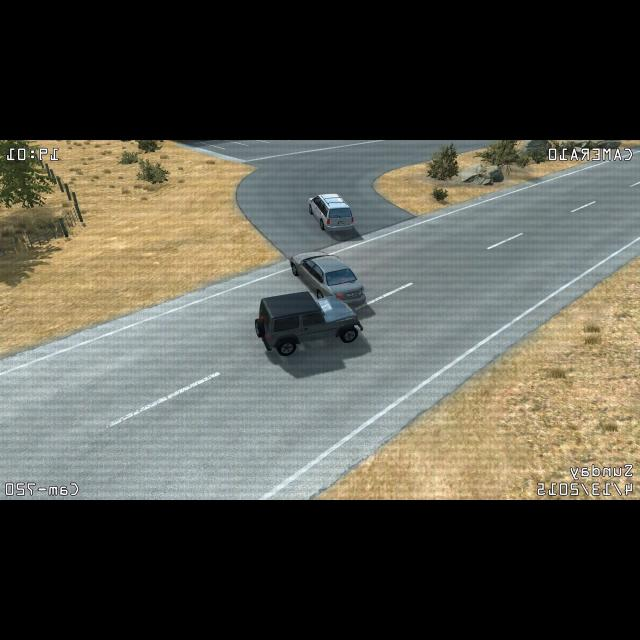accident: (255, 249, 368, 361)
